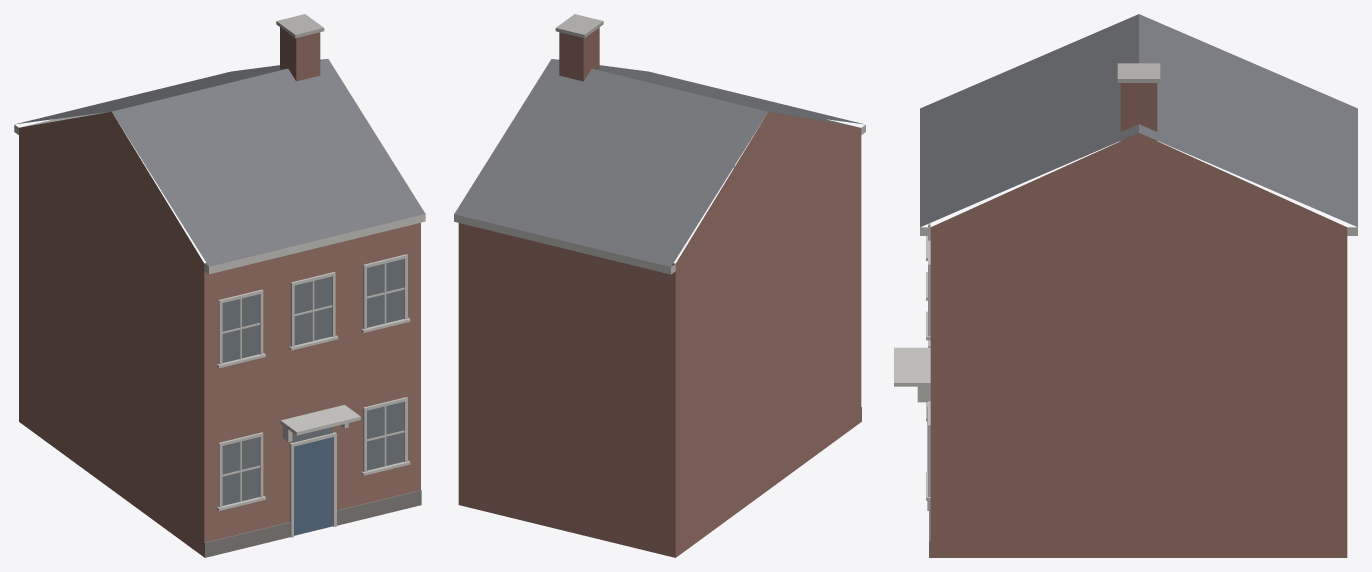
The model's file is residential.glb.
The picture shows the model from 3 angles, left to right: view 1: azimuth 30°, elevation 25°; view 2: azimuth 150°, elevation 25°; view 3: azimuth 270°, elevation 25°; orthographic projection. The views are drawn at different scales.
Visible parts, largest first — view 1: Part0; view 2: Part0; view 3: Part0.
Boxes of the visible parts, <box> form: Part0: <box>14,14,425,557</box>; Part0: <box>454,14,865,557</box>; Part0: <box>894,14,1357,557</box>.
Size of the model in its own units: 5.4 by 9.98 by 8.9.
